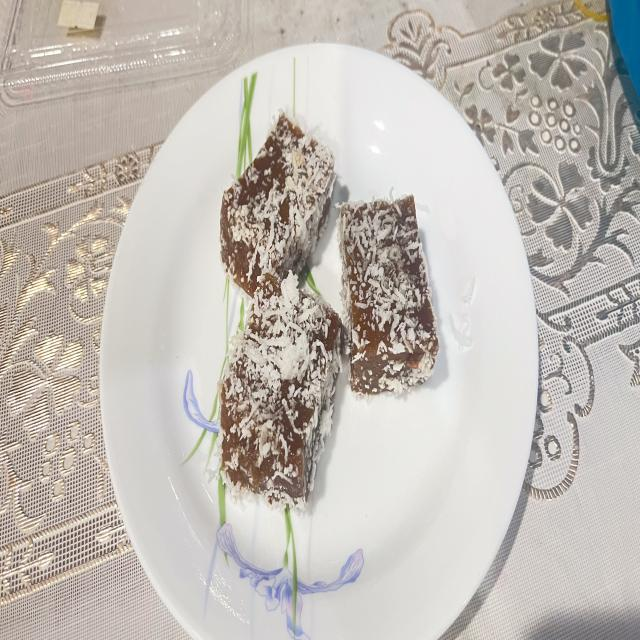kaswi: (219, 271, 342, 509), (220, 113, 335, 298), (339, 196, 439, 393)
